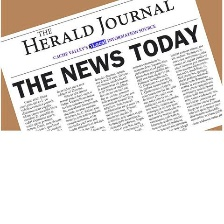news_paper: (0, 0, 223, 132)
